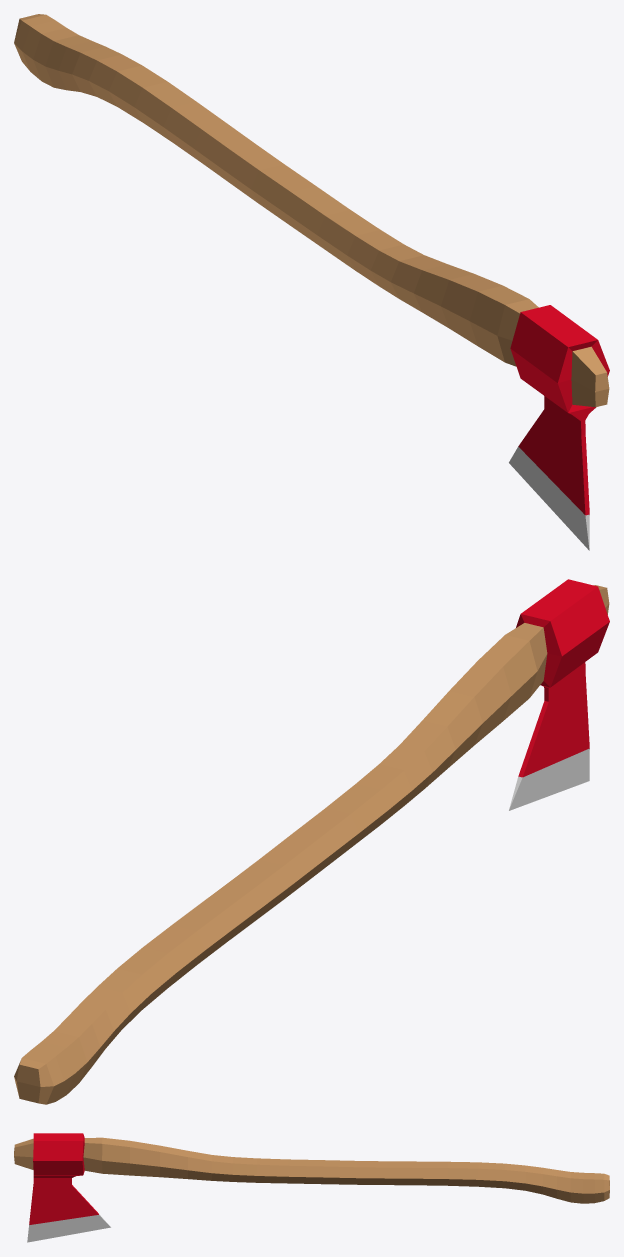
The model's file is Machado_A01.fbx.
The picture shows the model from 3 angles, top to bottom: view 1: azimuth 30°, elevation 25°; view 2: azimuth 150°, elevation 25°; view 3: azimuth 270°, elevation 25°; orthographic projection. The views are drawn at different scales.
Visible parts, largest first — view 1: Cube; view 2: Cube; view 3: Cube.
Boxes of the visible parts, <box> form: Cube: <box>14,14,609,550</box>; Cube: <box>14,579,609,1104</box>; Cube: <box>14,1133,609,1242</box>.
Size of the model in its own units: 10.89 by 40.43 by 207.
